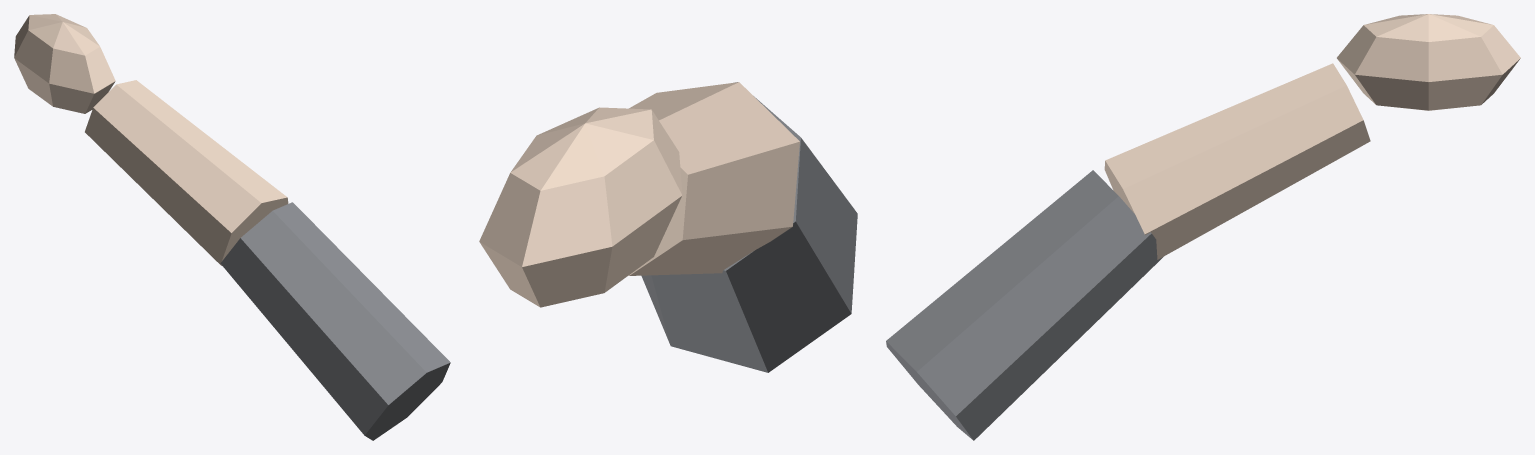
File: wep_arms_view.glb
3 renders of one model, left to right at view 1: azimuth 30°, elevation 25°; view 2: azimuth 150°, elevation 25°; view 3: azimuth 270°, elevation 25°, orthographic. The views are drawn at different scales.
Visible parts, largest first — view 1: wep_arms_view; view 2: wep_arms_view; view 3: wep_arms_view.
Boxes of the visible parts, bbox=[...] form: wep_arms_view: bbox=[14, 14, 450, 440]; wep_arms_view: bbox=[479, 82, 857, 372]; wep_arms_view: bbox=[886, 14, 1520, 440].
Bounding box in the file's own units: 0.2545 × 0.3473 × 0.5705.
